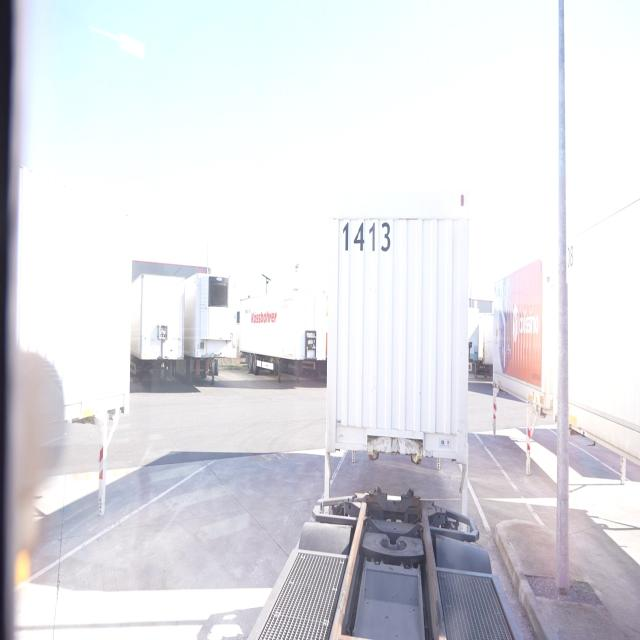Code: (339, 214, 395, 262)
